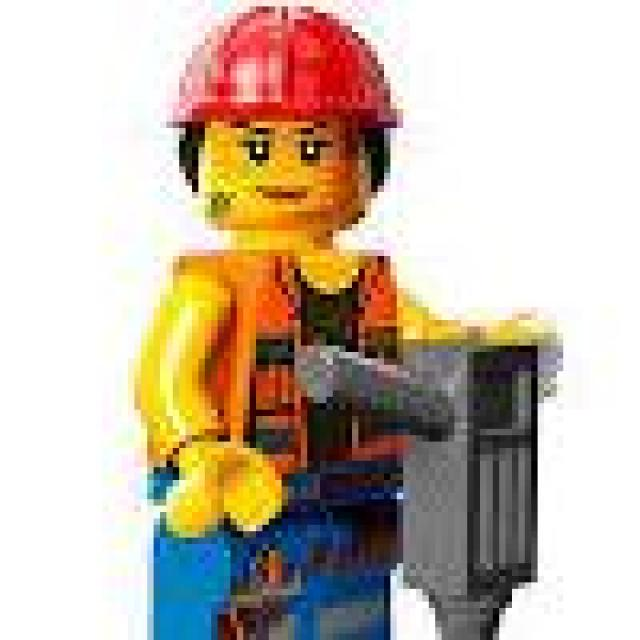Safety-Helmet: (154, 6, 428, 141)
